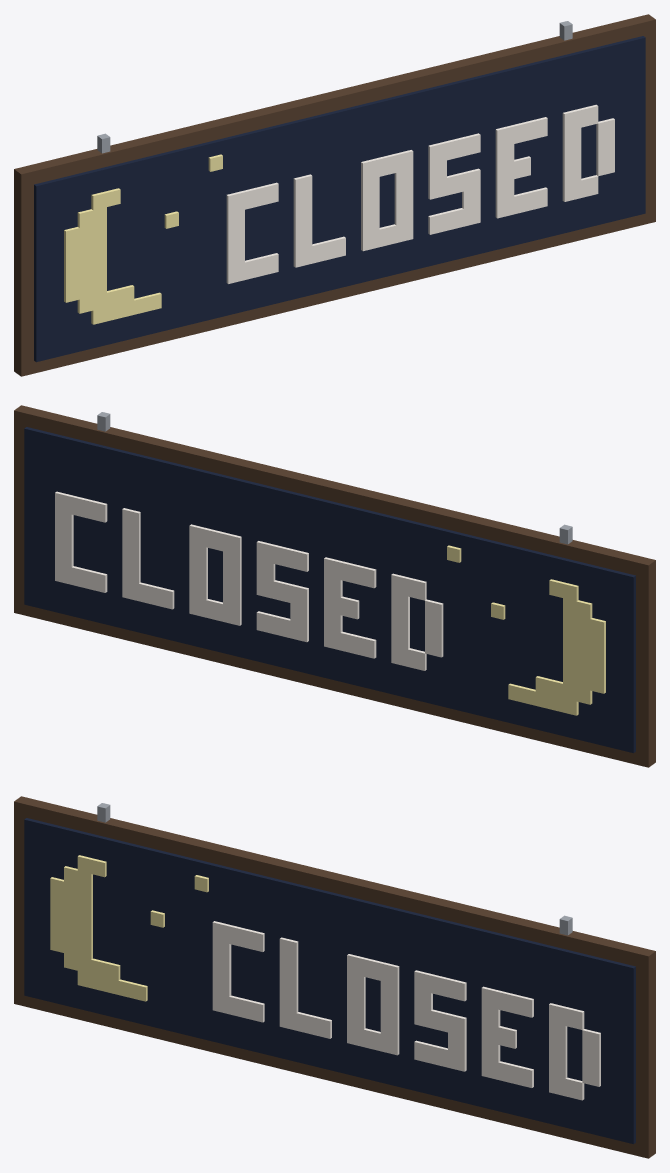
The model's file is CatCafe_Plot_ClosedSign.fbx.
The picture shows the model from 3 angles, top to bottom: view 1: azimuth 30°, elevation 25°; view 2: azimuth 150°, elevation 25°; view 3: azimuth 330°, elevation 25°; orthographic projection.
Parts seen in each view (by area): view 1: CatCafe_Plot_ClosedSign, CatCafe_Plot_ClosedSign_Moon_Bulb; view 2: CatCafe_Plot_ClosedSign, CatCafe_Plot_ClosedSign_Moon_Bulb; view 3: CatCafe_Plot_ClosedSign, CatCafe_Plot_ClosedSign_Moon_Bulb.
Boxes of the visible parts, bbox=[...] form: CatCafe_Plot_ClosedSign: bbox=[14, 14, 655, 376]; CatCafe_Plot_ClosedSign_Moon_Bulb: bbox=[64, 188, 161, 324]; CatCafe_Plot_ClosedSign: bbox=[14, 405, 655, 767]; CatCafe_Plot_ClosedSign_Moon_Bulb: bbox=[508, 579, 605, 715]; CatCafe_Plot_ClosedSign: bbox=[14, 796, 655, 1158]; CatCafe_Plot_ClosedSign_Moon_Bulb: bbox=[50, 855, 147, 1001].
Bounding box in the file's own units: 6.04 × 1.97 × 0.26.
1 material, 1 textured.
